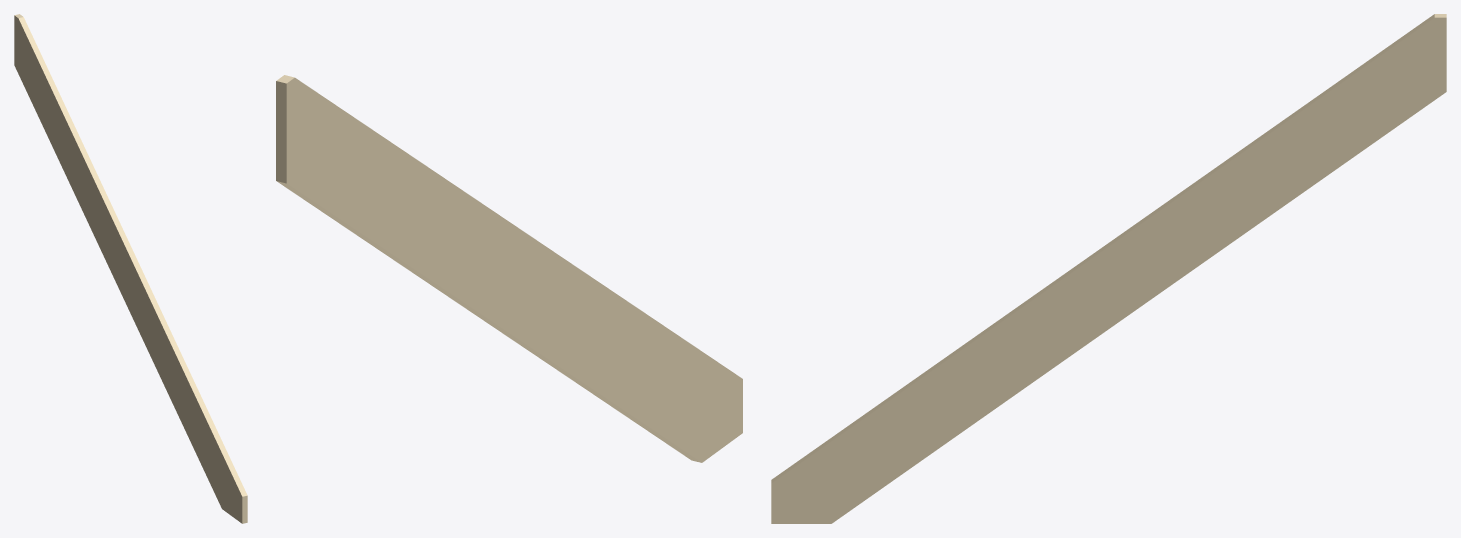
File: member-stringer.glb
3 views of the same model, side by side, from view 1: azimuth 30°, elevation 25°; view 2: azimuth 150°, elevation 25°; view 3: azimuth 270°, elevation 25° (orthographic). The views are drawn at different scales.
Visible parts, largest first — view 1: 1gtrSK5QnDuxDwygd0EDGO; view 2: 1gtrSK5QnDuxDwygd0EDGO; view 3: 1gtrSK5QnDuxDwygd0EDGO.
Boxes of the visible parts, x1,y1,x2,y2 form: 1gtrSK5QnDuxDwygd0EDGO: (14, 14, 247, 523); 1gtrSK5QnDuxDwygd0EDGO: (276, 75, 742, 462); 1gtrSK5QnDuxDwygd0EDGO: (771, 14, 1446, 523).
Bounding box in the file's own units: 0.05 × 3.1 × 3.75.
